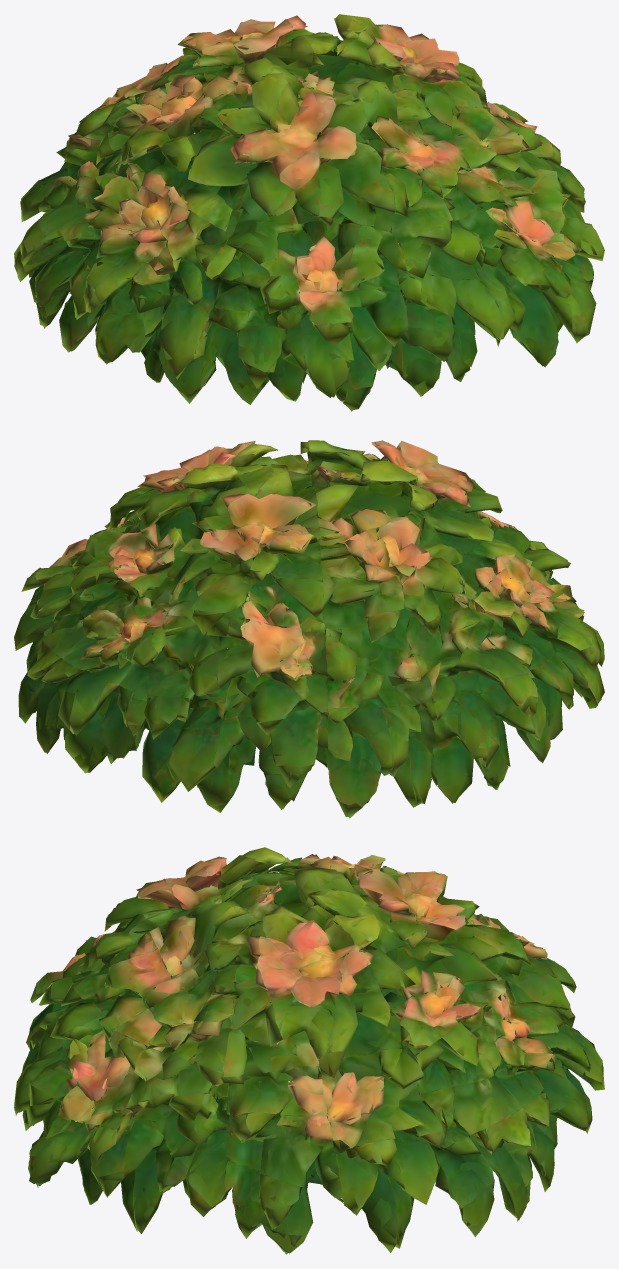
The model's file is blooming-bush.glb.
3 renders of one model, top to bottom at view 1: azimuth 30°, elevation 25°; view 2: azimuth 150°, elevation 25°; view 3: azimuth 270°, elevation 25°, orthographic. The views are drawn at different scales.
Visible parts, largest first — view 1: mesh_node; view 2: mesh_node; view 3: mesh_node.
Part boxes in pixels (bbox=[...]): mesh_node: bbox=[14, 14, 604, 411]; mesh_node: bbox=[14, 440, 604, 818]; mesh_node: bbox=[14, 847, 604, 1254].
Bounding box in the file's own units: 1.9 × 0.8878 × 1.81.
Materials: 1 (1 with a texture image).
